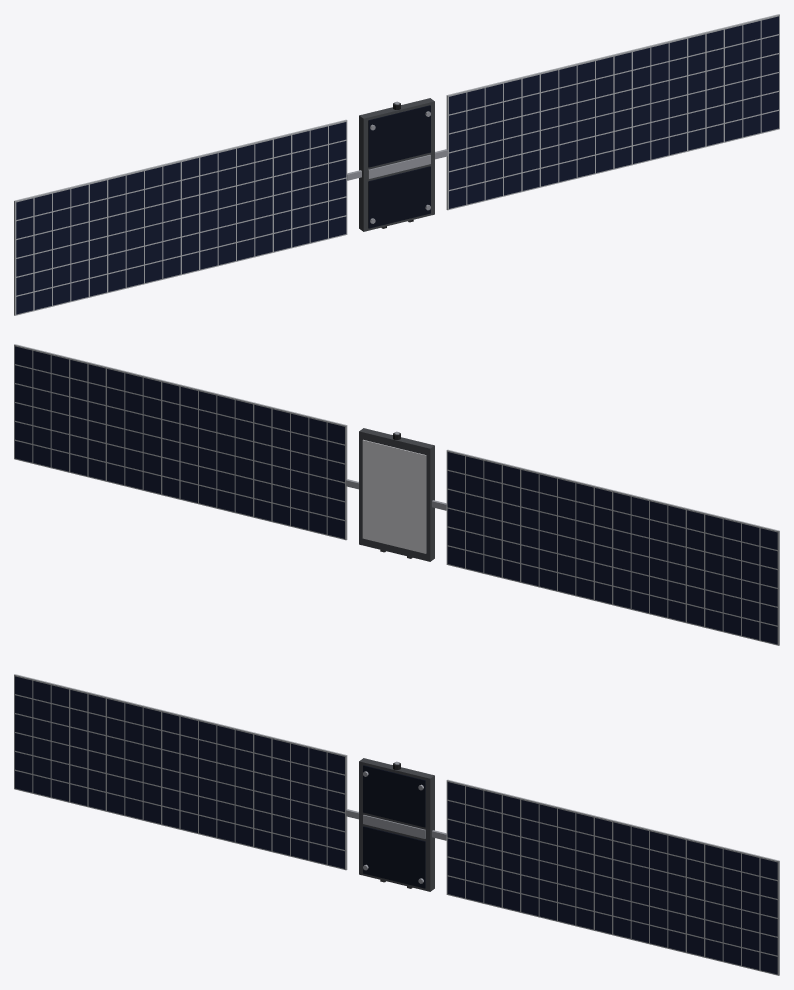
Rendered from starlink-v2mini.obj.
The picture shows the model from 3 angles, top to bottom: view 1: azimuth 30°, elevation 25°; view 2: azimuth 150°, elevation 25°; view 3: azimuth 330°, elevation 25°; orthographic projection.
Visible parts, largest first — view 1: StarlinkV2Mini; view 2: StarlinkV2Mini; view 3: StarlinkV2Mini.
Boxes of the visible parts, <box> form: StarlinkV2Mini: <box>14,14,779,315</box>; StarlinkV2Mini: <box>14,344,779,645</box>; StarlinkV2Mini: <box>14,674,779,975</box>.
Size of the model in its own units: 29 by 4.4 by 0.45.
